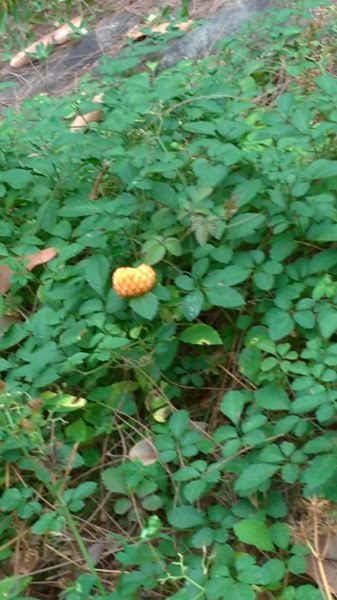eggs: (106, 259, 161, 301)
